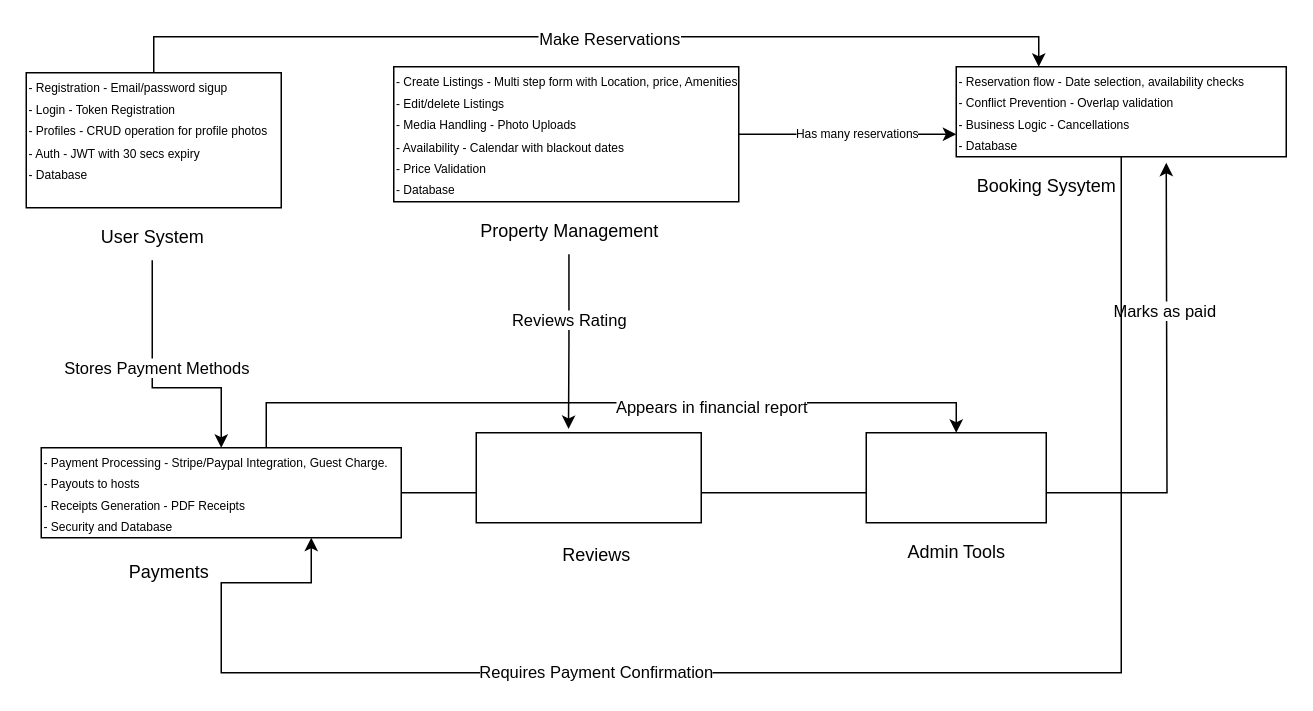
This 1313x711 diagram has some shape labels left out. The centre of each missing label's shape, as x and y in pixels:
- Rating System - Verified reviews only: (x=588, y=477)
- User Management - Listing Approvals - Financial Reporting: (x=955, y=477)
